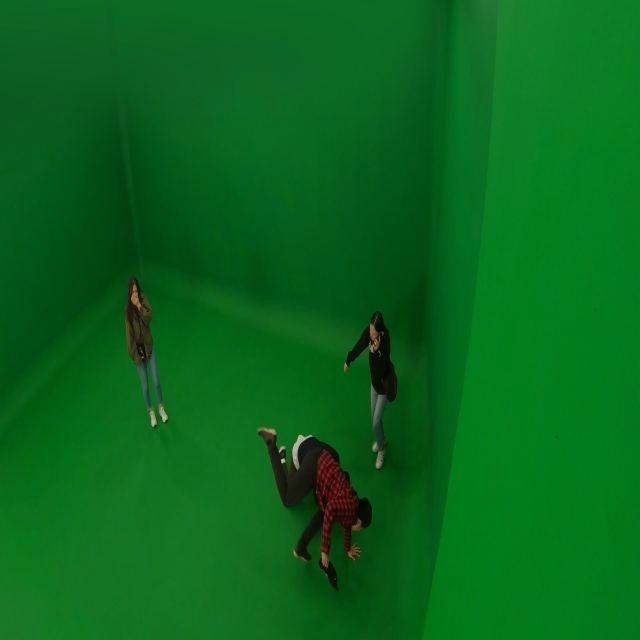fight: (256, 422, 370, 591)
non-fight: (341, 307, 400, 470), (124, 276, 168, 428)
